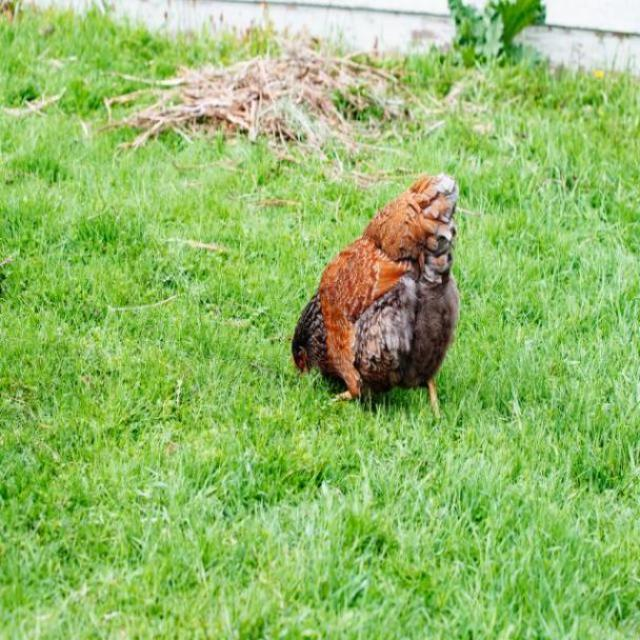Chicken: (289, 166, 464, 424)
